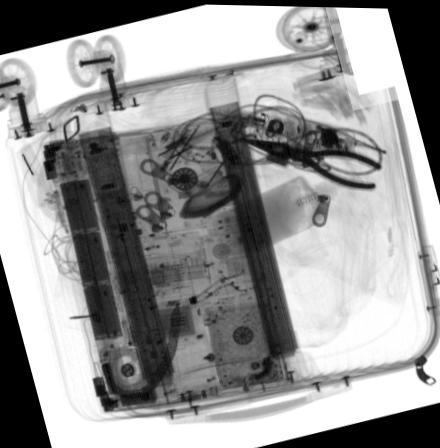Pliers: (242, 138, 383, 189)
